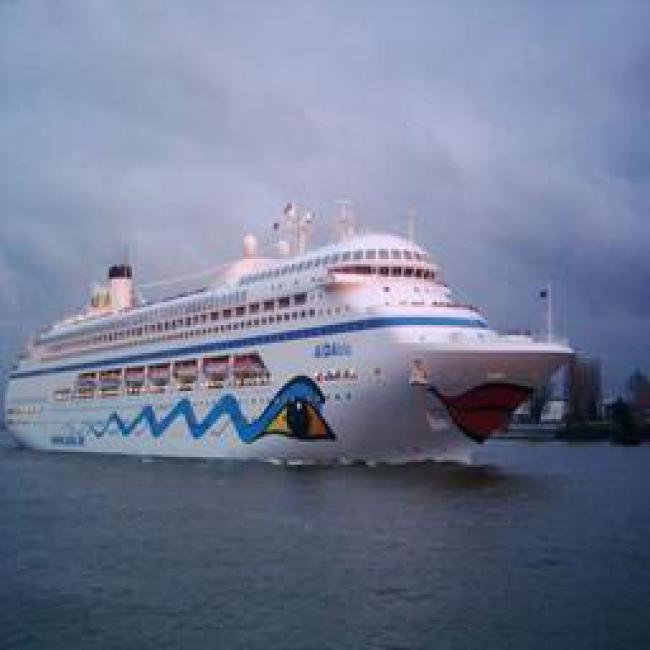Ship: (11, 281, 589, 482)
